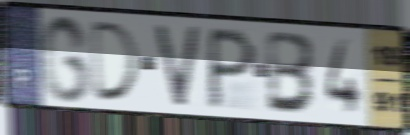4: (324, 38, 363, 116)
B: (266, 29, 318, 116)
D: (90, 19, 144, 104)
G: (39, 12, 92, 105)
P: (204, 26, 259, 112)
V: (152, 23, 203, 110)
